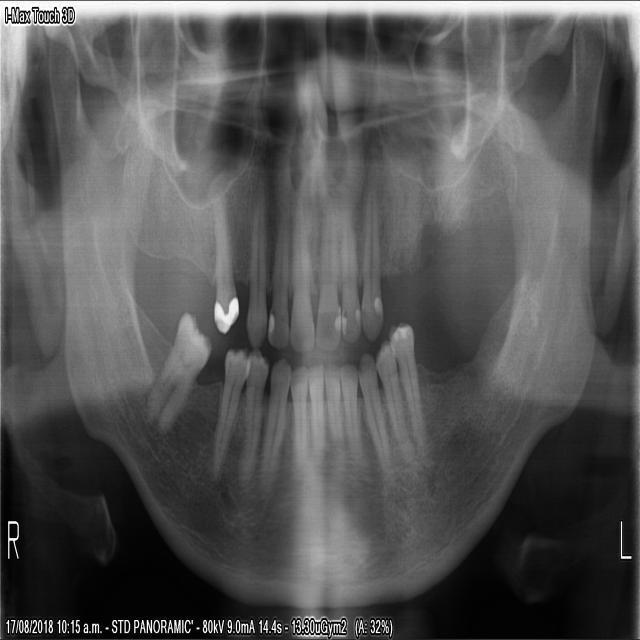LCD: (357, 352, 391, 472)
LCU: (360, 171, 385, 337)
LID: (339, 360, 363, 454), (325, 354, 345, 447)
LIU: (314, 174, 341, 352), (340, 176, 362, 347)
LPMD: (376, 333, 417, 465), (391, 321, 429, 452)
RCD: (258, 355, 291, 488)
RCU: (245, 174, 269, 352)
RID: (290, 365, 309, 457), (307, 365, 326, 457)
RIU: (289, 172, 315, 358), (268, 176, 292, 352)
RMD: (139, 305, 215, 435)
RMU: (208, 171, 239, 335)
RPMD: (211, 351, 248, 480), (236, 352, 268, 483)
